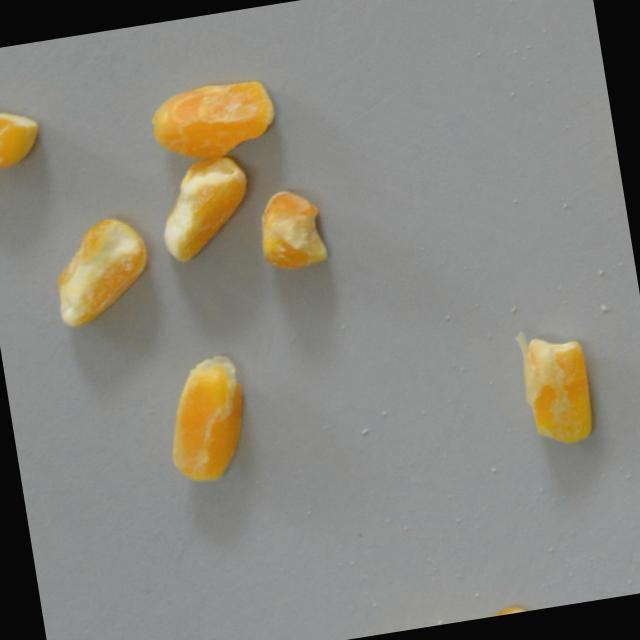dañado: (152, 345, 262, 490), (40, 207, 162, 333), (138, 71, 287, 168), (148, 151, 262, 269), (507, 318, 603, 451), (249, 182, 335, 277), (0, 86, 47, 171), (416, 598, 540, 628), (601, 113, 627, 216)
